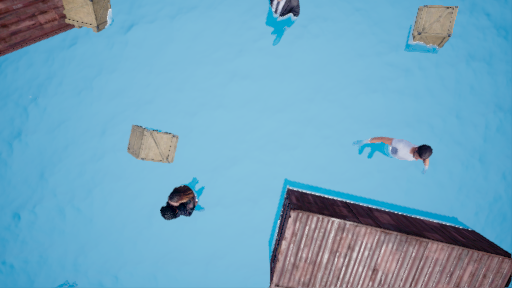person: (356, 131, 443, 172), (166, 178, 207, 227), (266, 3, 296, 48)
